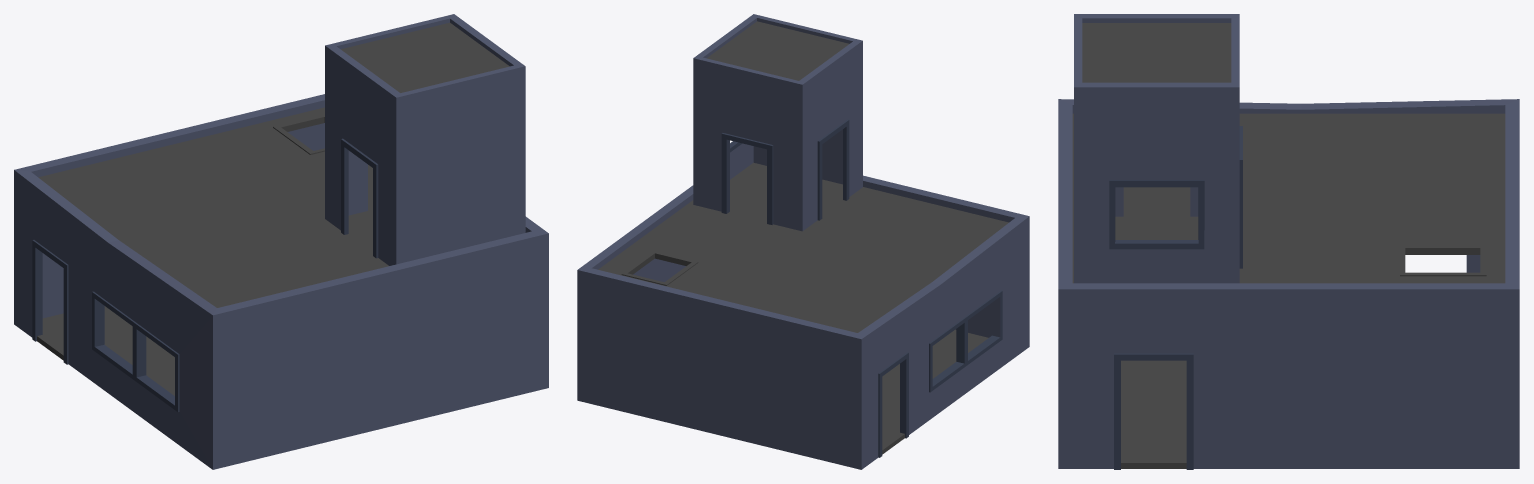
Rendered from SmallBuilding2.fbx.
The picture shows the model from 3 angles, left to right: view 1: azimuth 30°, elevation 25°; view 2: azimuth 150°, elevation 25°; view 3: azimuth 270°, elevation 25°; orthographic projection. The views are drawn at different scales.
Visible parts, largest first — view 1: SmallBuilding2_LOD0; view 2: SmallBuilding2_LOD0; view 3: SmallBuilding2_LOD0.
Boxes of the visible parts, box(x1,y1,x2,y2) form: SmallBuilding2_LOD0: box(14, 14, 548, 469); SmallBuilding2_LOD0: box(577, 14, 1029, 469); SmallBuilding2_LOD0: box(1058, 14, 1519, 469).
Size of what is drawn, in the model's own units: 1729 by 1561 by 1754.
1 material, 1 textured.
